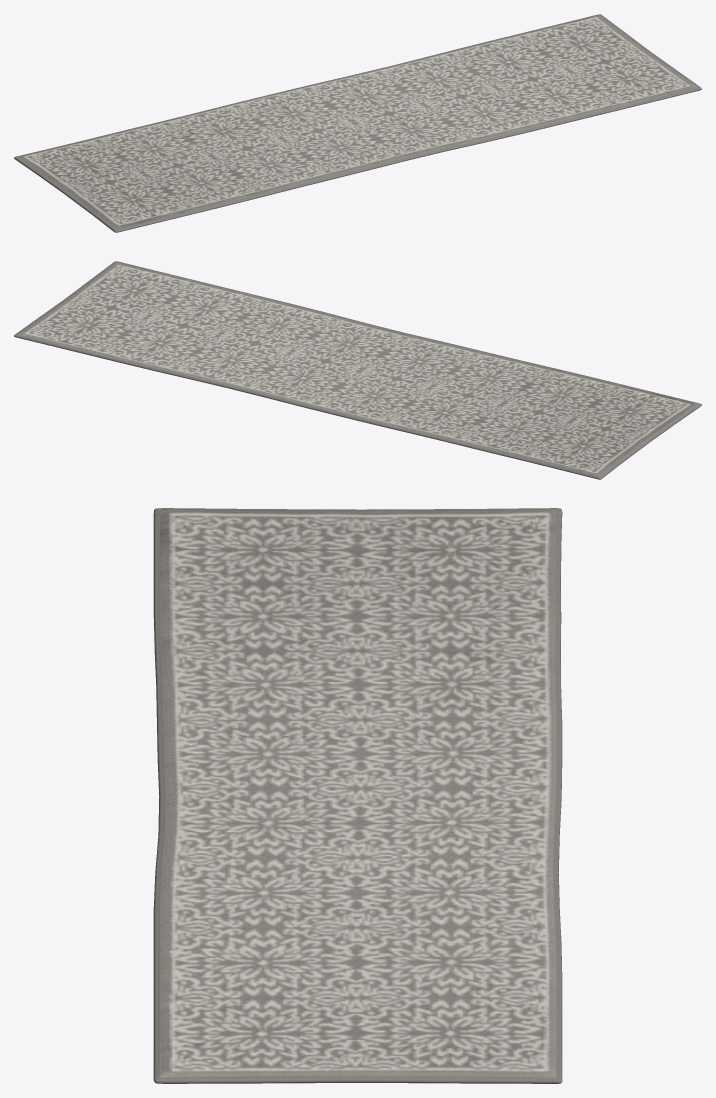
The model's file is B07QC8BJFR.glb.
3 renders of one model, top to bottom at view 1: azimuth 30°, elevation 25°; view 2: azimuth 150°, elevation 25°; view 3: azimuth 270°, elevation 25°, orthographic. The views are drawn at different scales.
Visible parts, largest first — view 1: RootNode; view 2: RootNode; view 3: RootNode.
Part boxes in pixels (<box>): RootNode: <box>14,14,701,232</box>; RootNode: <box>14,261,701,479</box>; RootNode: <box>153,508,562,1083</box>.
Bounding box in the file's own units: 2.2 × 0.0105 × 0.6617.
Materials: 1 (1 with a texture image).
